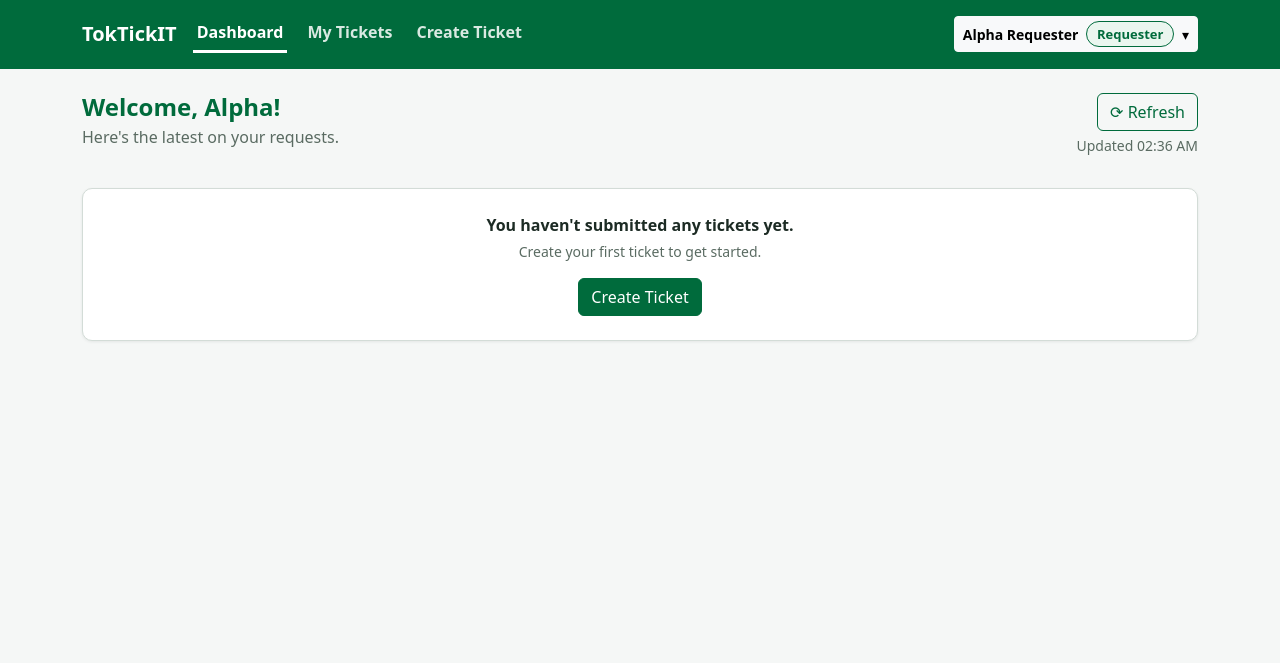
UI-04 / UI-05 / UI-06 / UI-07 — Create Ticket (AC-05, AC-07, AC-09, AC-10) › shows the selected requester read-only and does not let it be edited
The image size is (1280, 663).
Click the button "Create Ticket" in the row of "TokTickIT" at (469, 34), box [412,16,526,53]
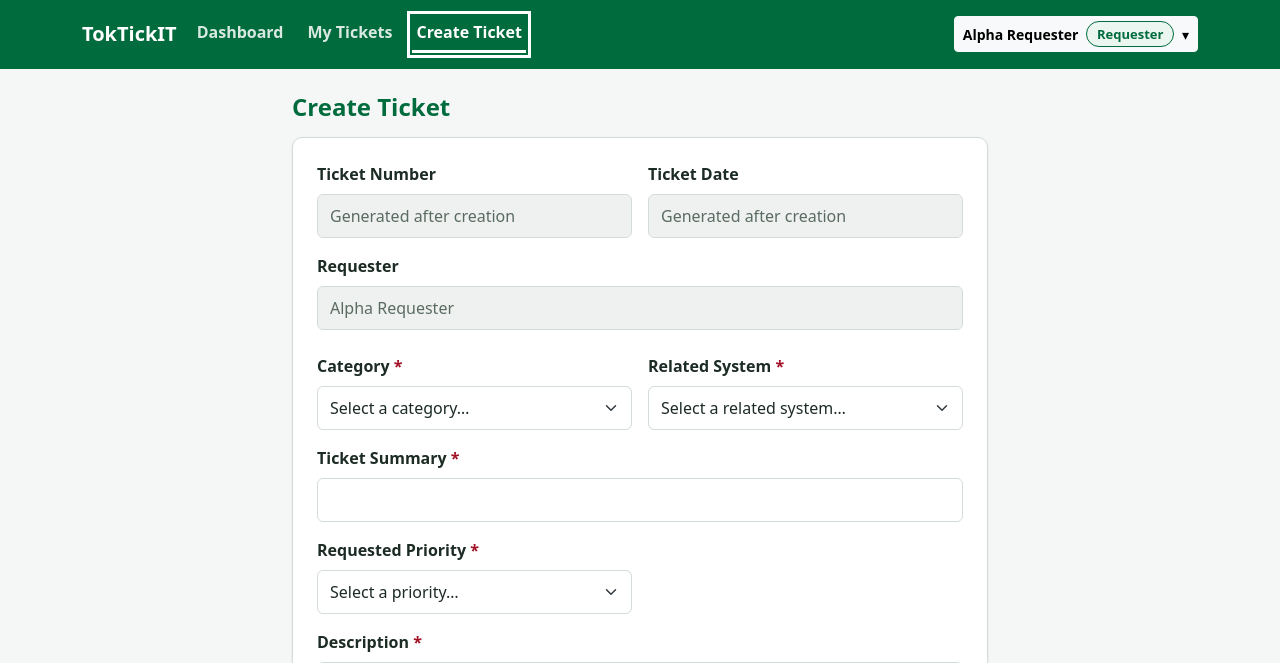
Expected: the field labelled "Requester" holds "Alpha Requester", [317,286,963,330]
